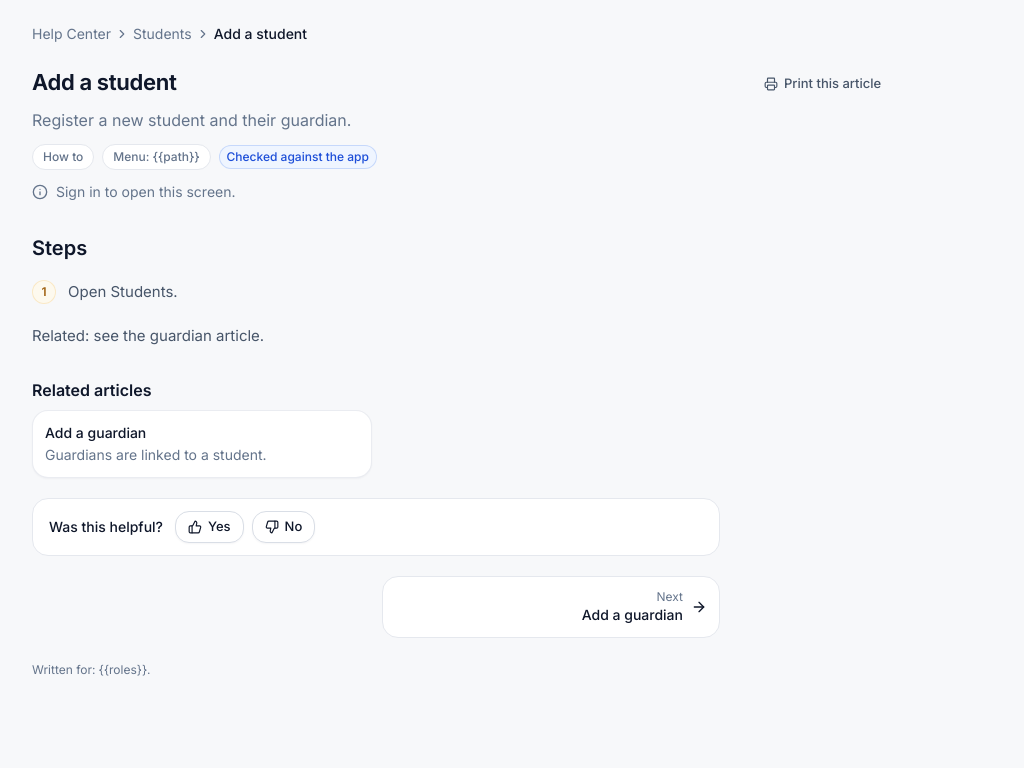
Test case: Help article › remembers the answer to 'Was this helpful?'
Step 1. Click the button with aria-label "Yes, this was helpful" → [209, 527], box [175, 511, 244, 543]
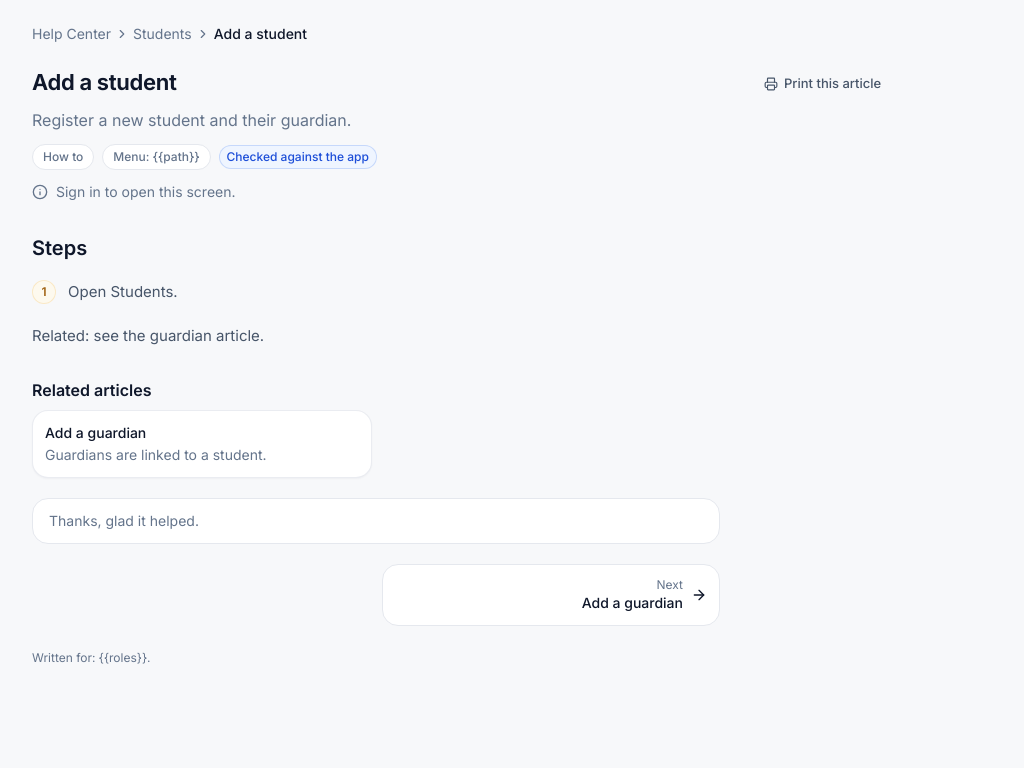
Now the text "Thanks, glad it helped." is shown, box [49, 511, 199, 531]
